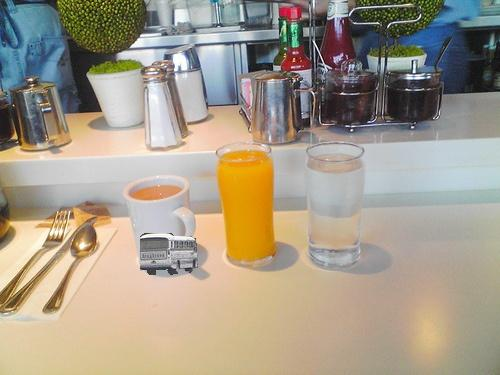tampered: (141, 234, 198, 275)
